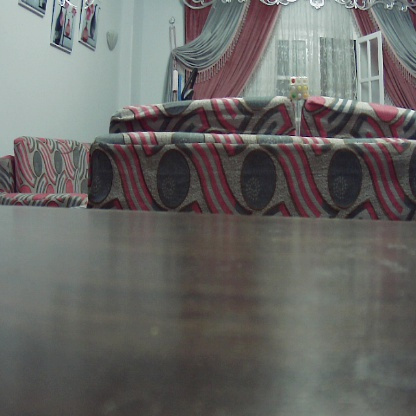Rubix Cube: (288, 77, 311, 100)
